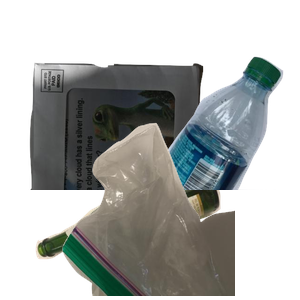glass: (33, 158, 246, 300)
paper: (27, 60, 223, 240)
plastic: (142, 54, 300, 234)
trash: (60, 120, 300, 300)
